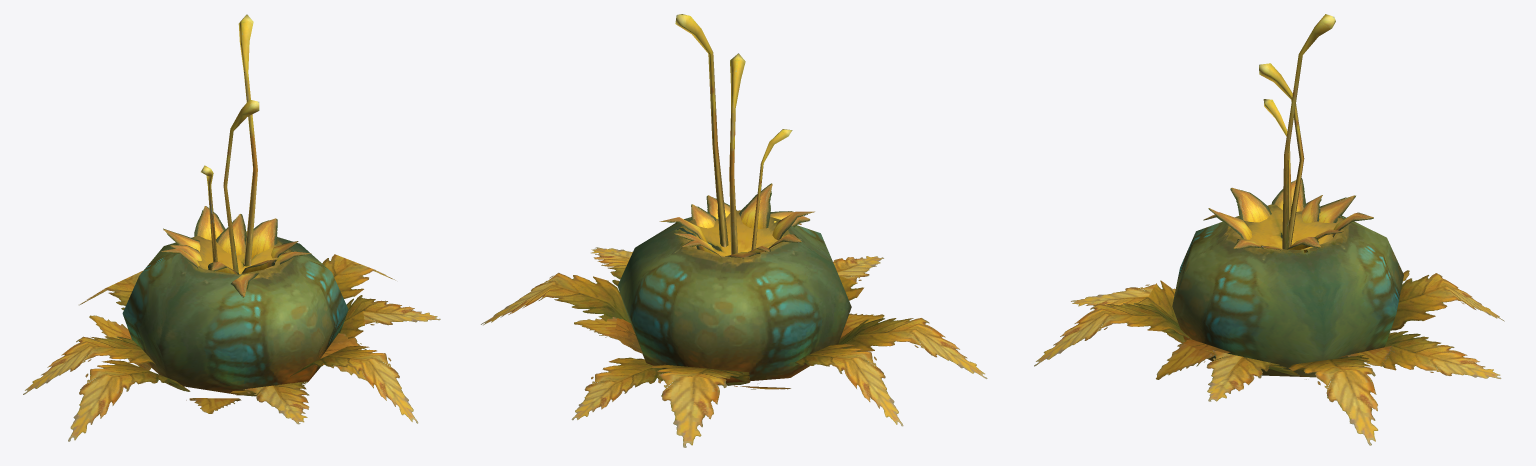
Rendered from zhiwu01.FBX.
3 views of the same model, side by side, from view 1: azimuth 30°, elevation 25°; view 2: azimuth 150°, elevation 25°; view 3: azimuth 270°, elevation 25° (orthographic). The views are drawn at different scales.
Visible parts, largest first — view 1: zhiwu03; view 2: zhiwu03; view 3: zhiwu03.
Boxes of the visible parts, x1,y1,x2,y2 form: zhiwu03: [23, 14, 440, 441]; zhiwu03: [481, 14, 987, 447]; zhiwu03: [1034, 14, 1504, 445].
Size of the model in its own units: 1.51 by 1.13 by 1.43.
Materials: 1 (1 with a texture image).
